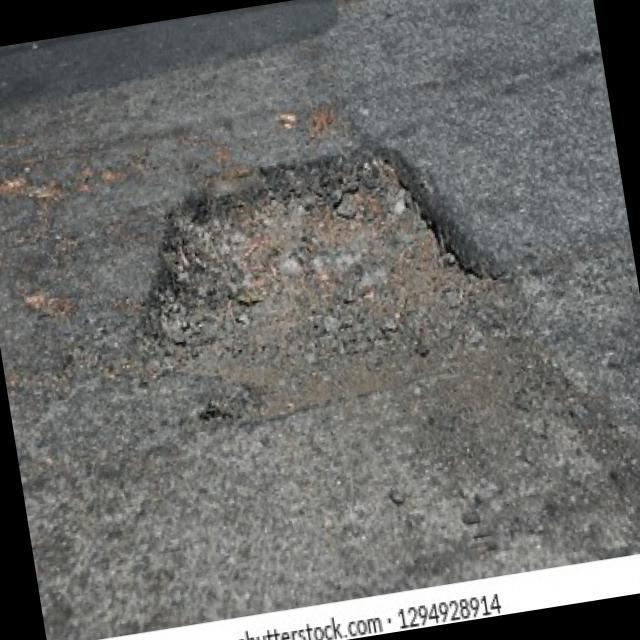Pothole: (116, 116, 520, 437)
